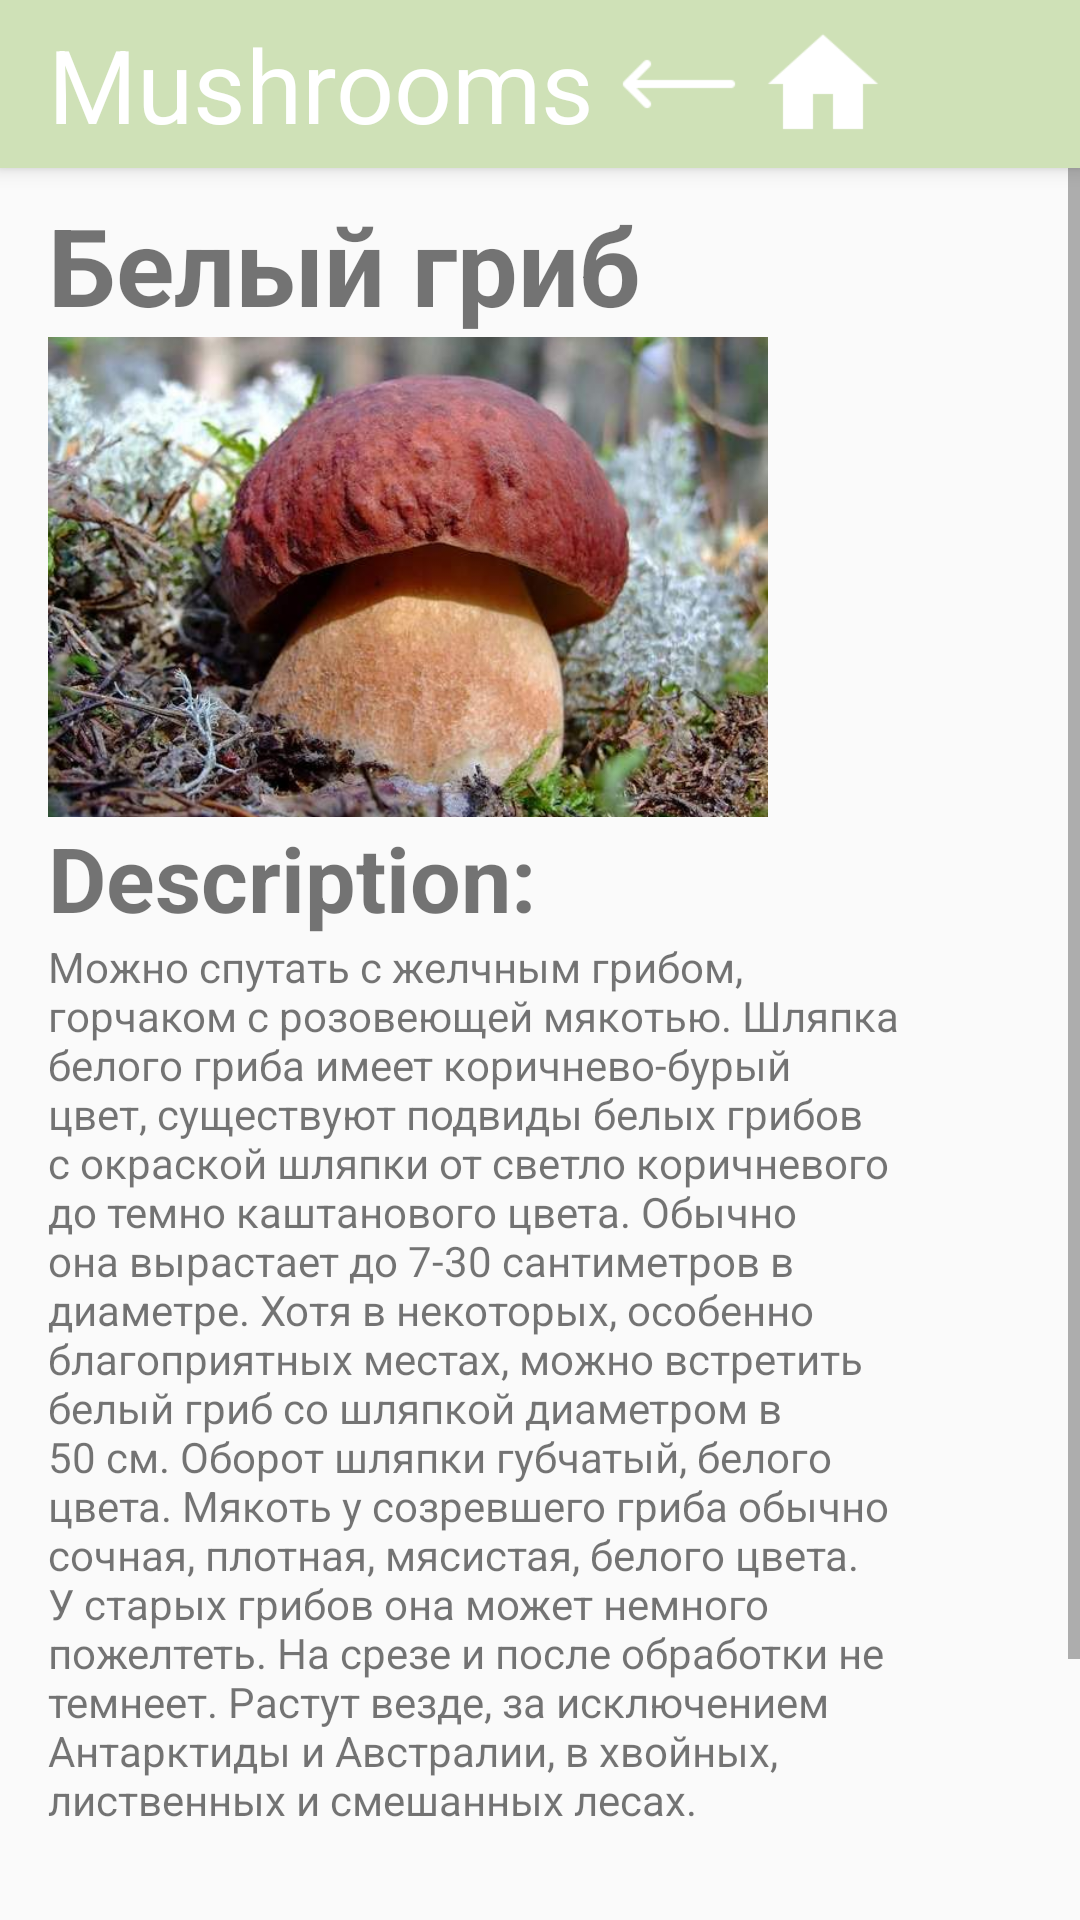

Named icons in this screenshot (1080 x 1920) and their bounding boxes, (x1, y1, x2, y2):
home: (768, 35, 878, 129)
long arrow left: (623, 60, 735, 108)
